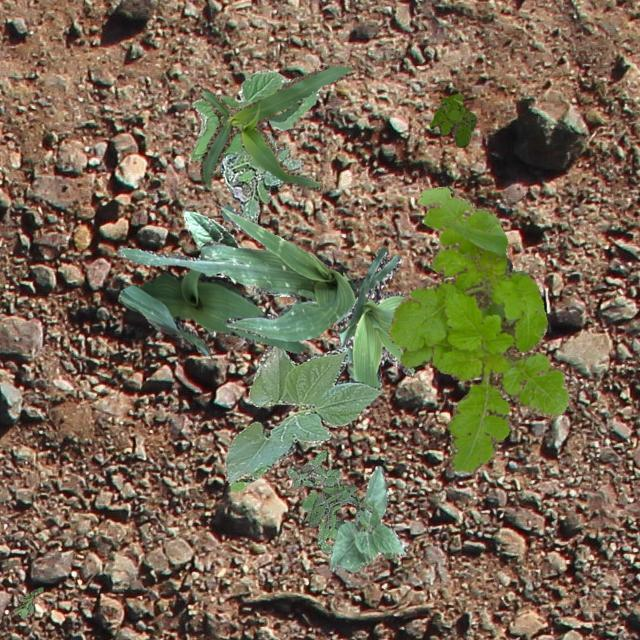crop: (116, 203, 354, 339), (224, 344, 380, 491), (199, 61, 353, 190), (114, 268, 304, 354), (190, 68, 318, 160), (336, 245, 414, 388), (182, 208, 290, 296), (328, 464, 406, 572), (504, 256, 512, 272)
weed: (387, 184, 568, 470), (284, 448, 354, 554), (218, 134, 302, 222), (308, 486, 372, 528), (428, 92, 474, 146), (13, 586, 42, 618)
